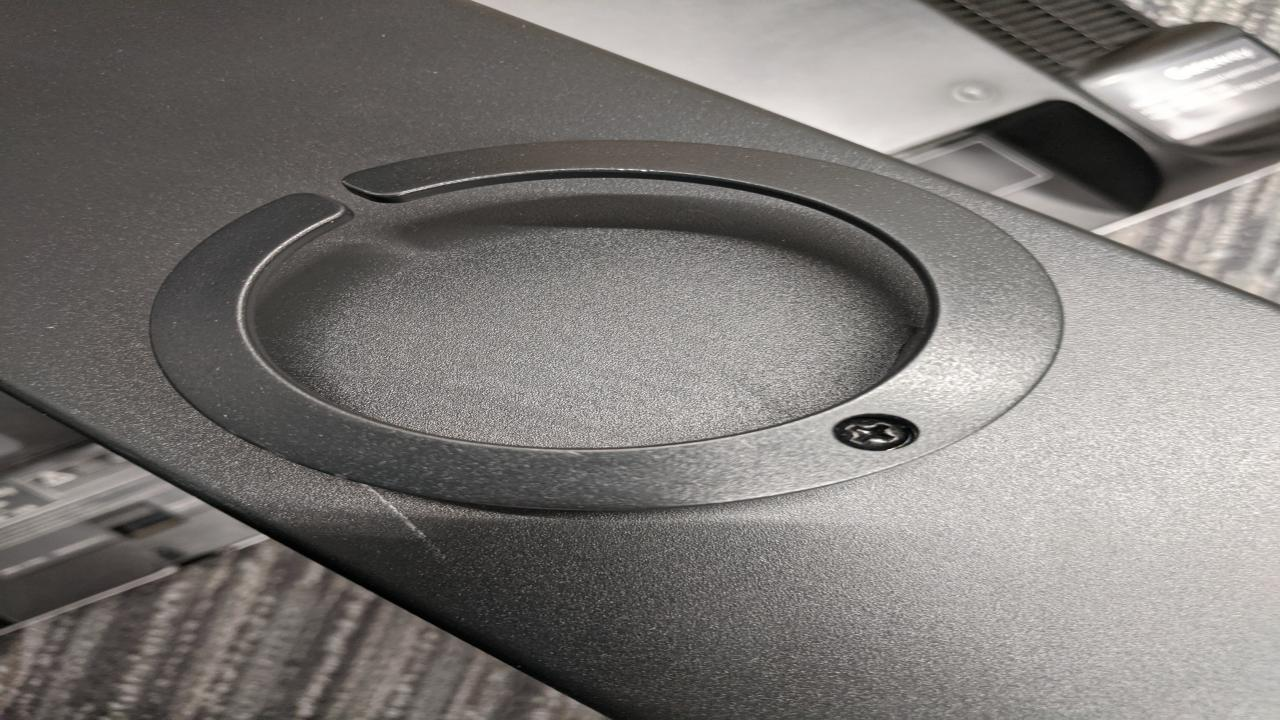CRS: (832, 415, 918, 449)
